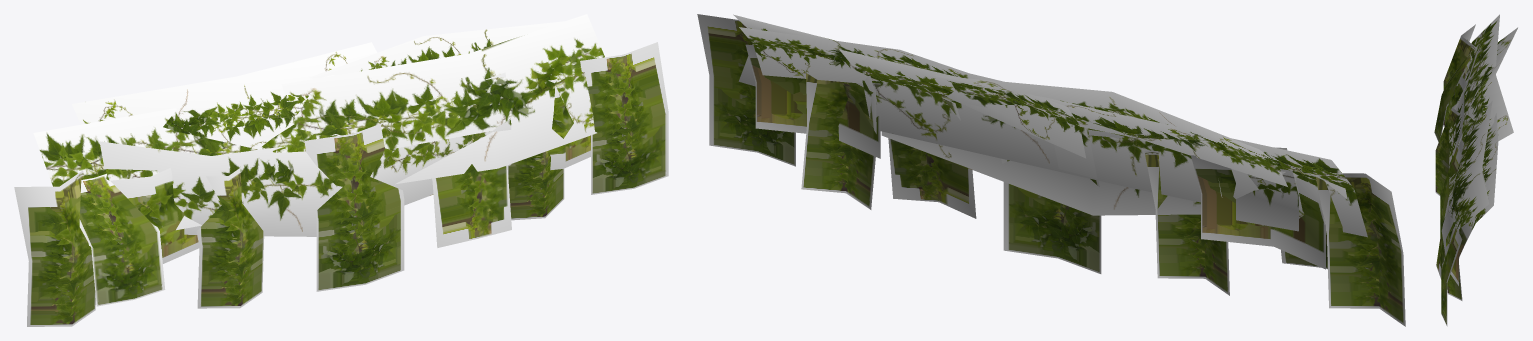
Rendered from Pp_Ms_Plants.fbx.
3 renders of one model, left to right at view 1: azimuth 30°, elevation 25°; view 2: azimuth 150°, elevation 25°; view 3: azimuth 270°, elevation 25°, orthographic. The views are drawn at different scales.
Parts seen in each view (by area): view 1: Plane011; view 2: Plane011; view 3: Plane011.
Boxes of the visible parts, left/top/right/bottom form: Plane011: left=14, top=14, right=668, bottom=326; Plane011: left=697, top=14, right=1405, bottom=326; Plane011: left=1434, top=14, right=1517, bottom=326.
Size of the model in its own units: 446 by 135 by 74.25.
1 material, 1 textured.
